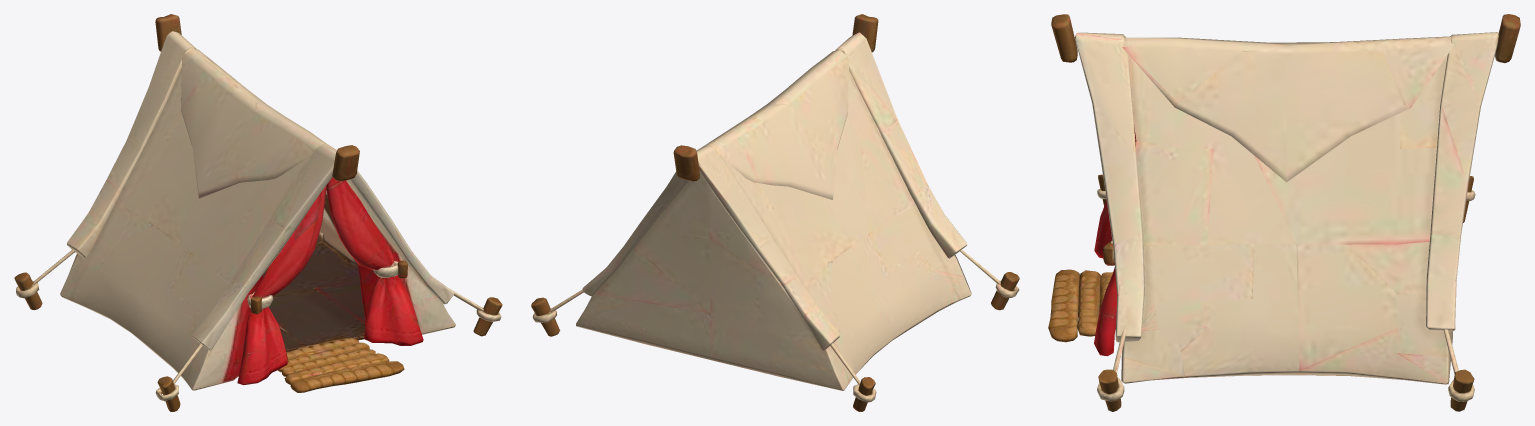
Rendered from tent.glb.
3 renders of one model, left to right at view 1: azimuth 30°, elevation 25°; view 2: azimuth 150°, elevation 25°; view 3: azimuth 270°, elevation 25°, orthographic. The views are drawn at different scales.
Size of the model in its own units: 1 by 0.6784 by 0.9695.
Materials: 1 (1 with a texture image).
